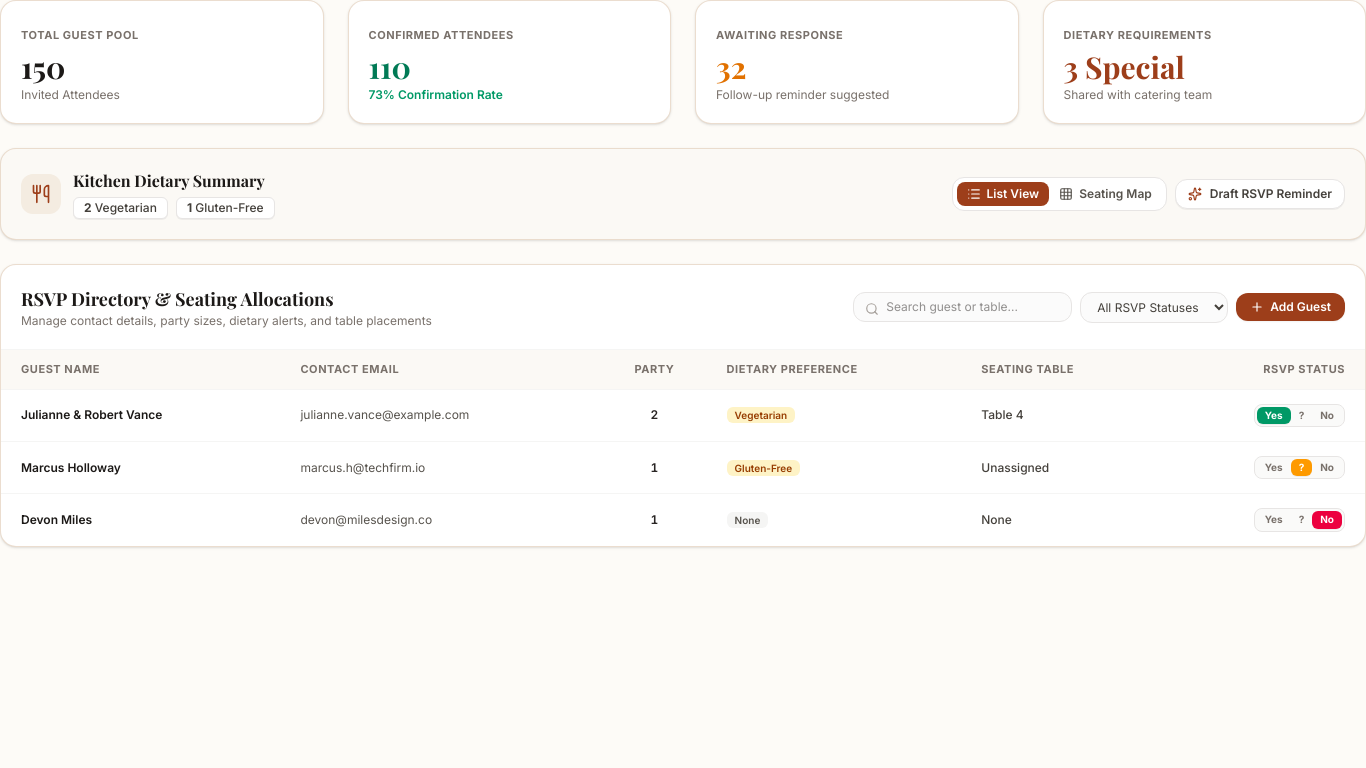
Test: GuestsTab Component › filters guests by search input query
The width and height of the screenshot is (1366, 768).
Type "Julianne" into the field with placeholder "Search guest or table..." at (963, 307), box 853,292 -> 1072,322
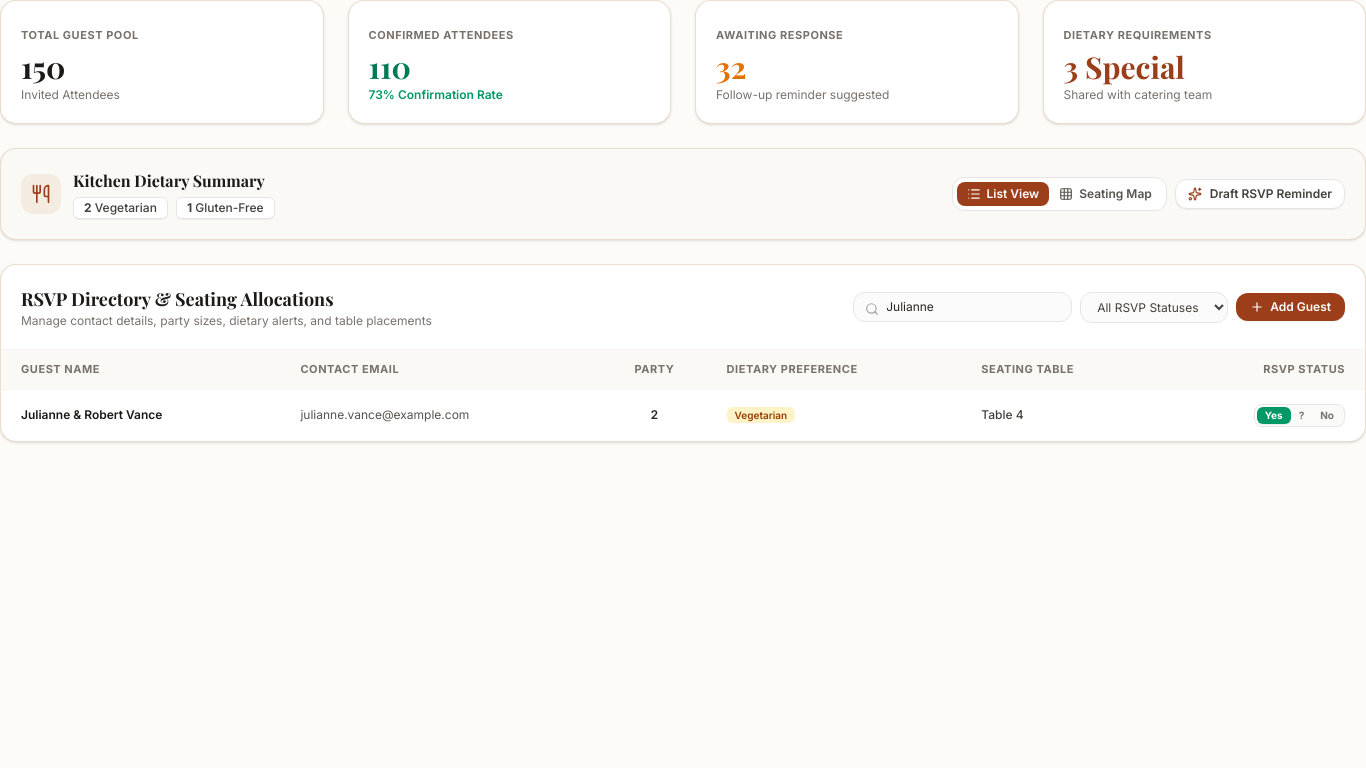
Expected: the text "Julianne & Robert Vance" is shown, 1,389 -> 284,441
Expected: the text "Marcus Holloway" is gone
